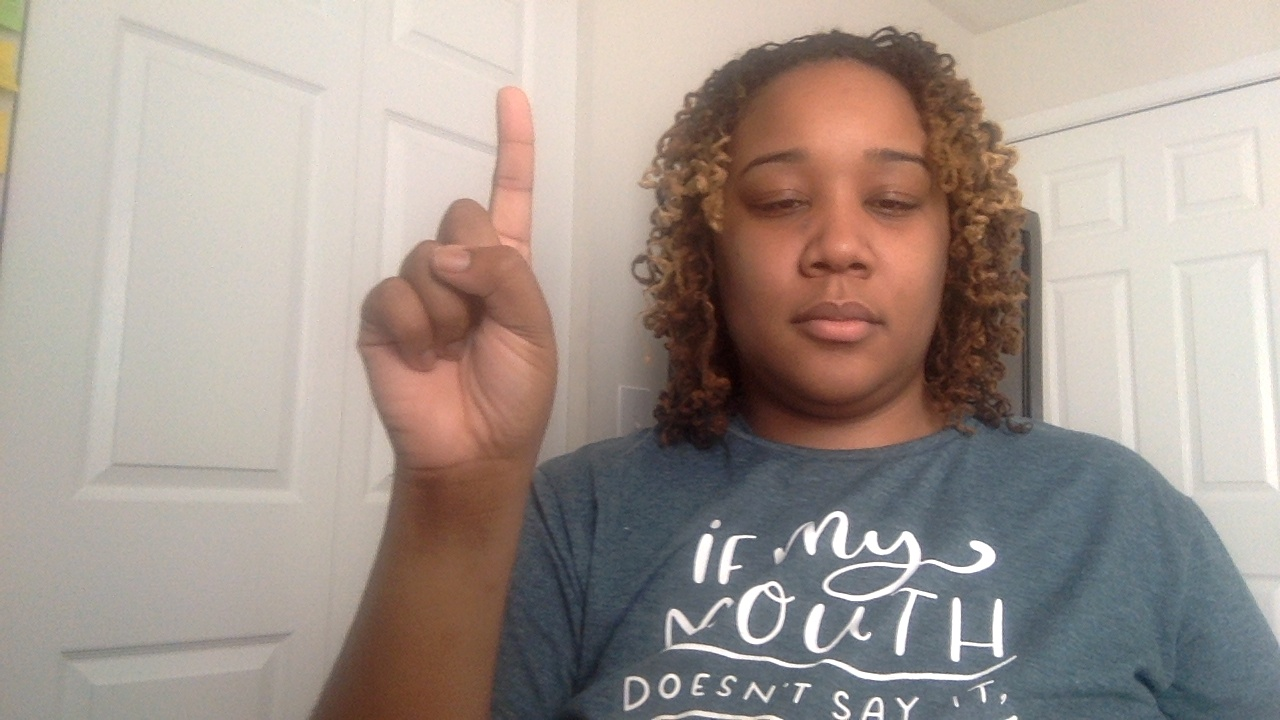up: (320, 74, 585, 720)
